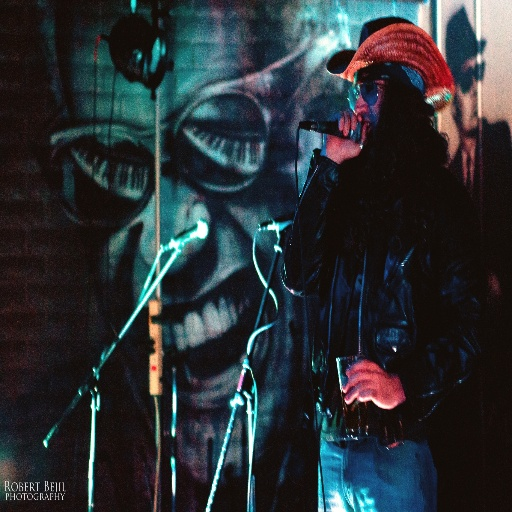hand: (343, 366, 406, 421), (321, 107, 367, 161)
